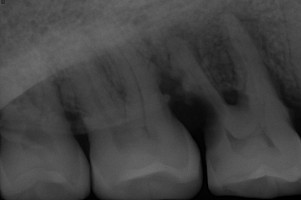Dental Caries: (142, 7, 301, 108)
